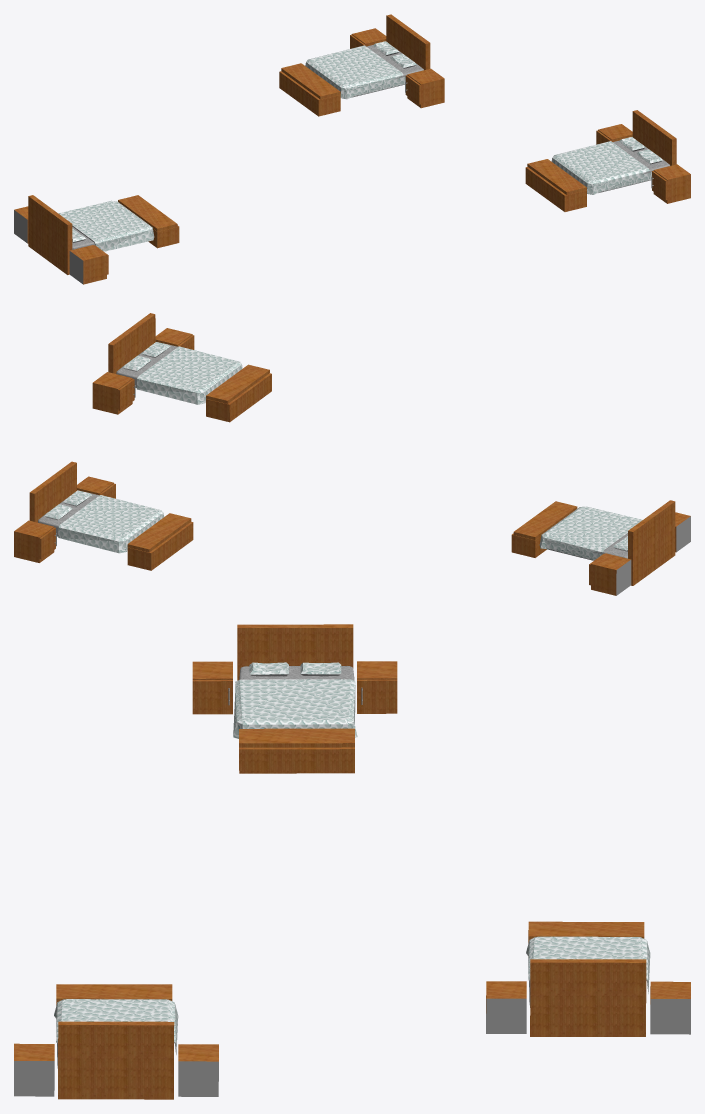
File: bed.gltf
3 views of the same model, one above another, from view 1: azimuth 30°, elevation 25°; view 2: azimuth 150°, elevation 25°; view 3: azimuth 270°, elevation 25° (orthographic). The views are drawn at different scales.
Visible parts, largest first — view 1: ID492_0, ID124_0, ID460_0, ID412_0, ID108_0, ID524_0, ID540_0, ID87_0, ID516_0, ID100_0, ID636_0, ID188_0 (+3 smaller); view 2: ID492_0, ID124_0, ID460_0, ID412_0, ID524_0, ID108_0, ID540_0, ID87_0, ID516_0, ID100_0, ID236_0, ID668_0 (+5 smaller); view 3: ID108_0, ID524_0, ID460_0, ID412_0, ID396_0, ID492_0, ID124_0, ID388_0, ID100_0, ID516_0, ID212_0, ID244_0 (+9 smaller).
Part boxes in pixels (x1,y1,x2,y2): ID492_0: (305, 45, 403, 99); ID124_0: (551, 141, 649, 194); ID460_0: (58, 200, 154, 251); ID412_0: (28, 195, 72, 274); ID108_0: (632, 110, 676, 165); ID524_0: (386, 14, 430, 70); ID540_0: (279, 71, 340, 116); ID87_0: (525, 167, 586, 211); ID516_0: (281, 63, 340, 99); ID100_0: (527, 159, 586, 194); ID636_0: (407, 68, 444, 108); ID188_0: (653, 164, 690, 203); ID492_0: (58, 495, 164, 553); ID124_0: (136, 346, 242, 404); ID460_0: (539, 506, 642, 552); ID412_0: (628, 500, 675, 585); ID524_0: (29, 461, 76, 522); ID108_0: (108, 313, 155, 373); ID540_0: (127, 521, 193, 570); ID87_0: (206, 373, 271, 422); ID516_0: (127, 513, 191, 552); ID100_0: (206, 364, 269, 403); ID236_0: (92, 372, 132, 414); ID668_0: (14, 520, 54, 562); ID108_0: (58, 1021, 174, 1099); ID524_0: (530, 959, 646, 1036); ID460_0: (233, 679, 357, 738); ID412_0: (237, 624, 353, 680); ID396_0: (239, 747, 354, 773); ID492_0: (526, 936, 650, 993); ID124_0: (54, 999, 178, 1053); ID388_0: (239, 728, 354, 747); ID100_0: (56, 984, 172, 1002); ID516_0: (528, 921, 644, 940); ID212_0: (14, 1061, 54, 1096); ID244_0: (178, 1061, 218, 1096).
Size of the model in its own units: 12.18 by 1.14 by 8.8.
168 materials, 120 textured.
